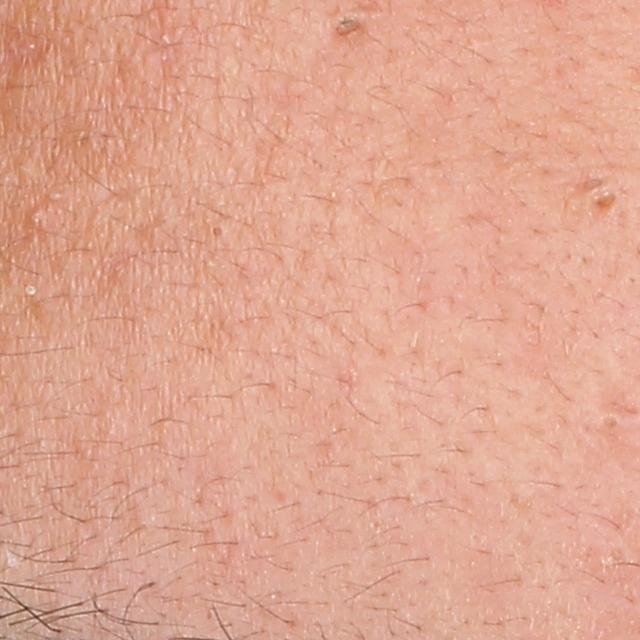atrophic_scar: (590, 190, 621, 217), (582, 176, 608, 193)
comedo: (331, 10, 372, 45), (599, 411, 620, 430), (26, 211, 45, 230), (209, 220, 227, 240)
